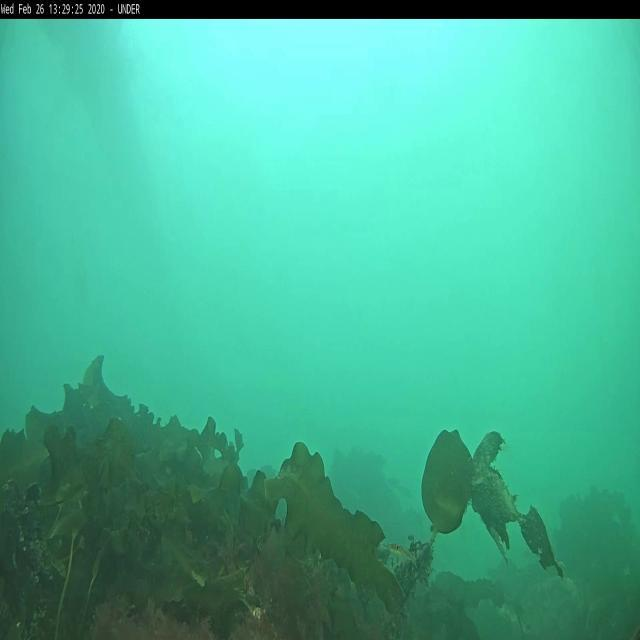fish: (388, 540, 414, 564)
